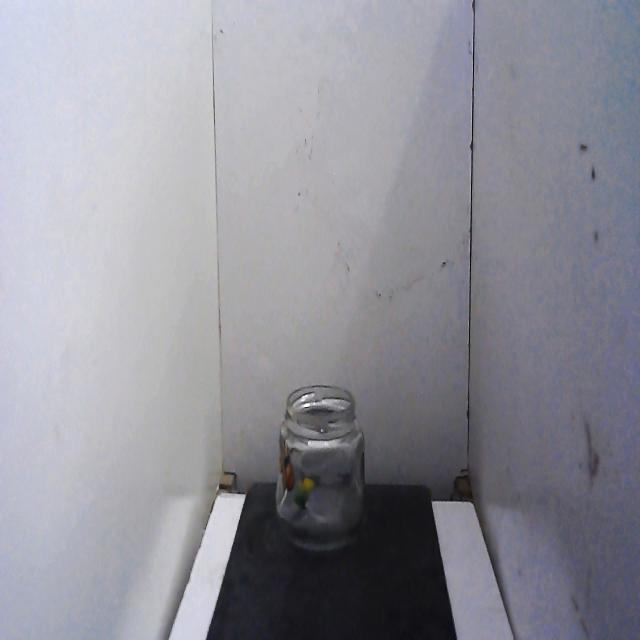vidro: (272, 378, 371, 567)
